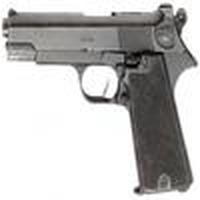gun: (1, 9, 197, 189)
